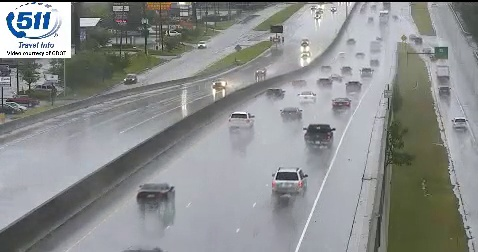car: (272, 168, 306, 195), (137, 183, 174, 203), (304, 124, 333, 148), (228, 111, 253, 128), (332, 97, 352, 110)
